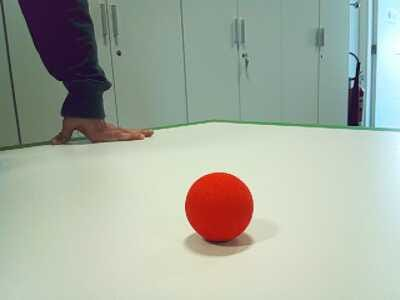bola_cerca: (186, 172, 257, 246)
